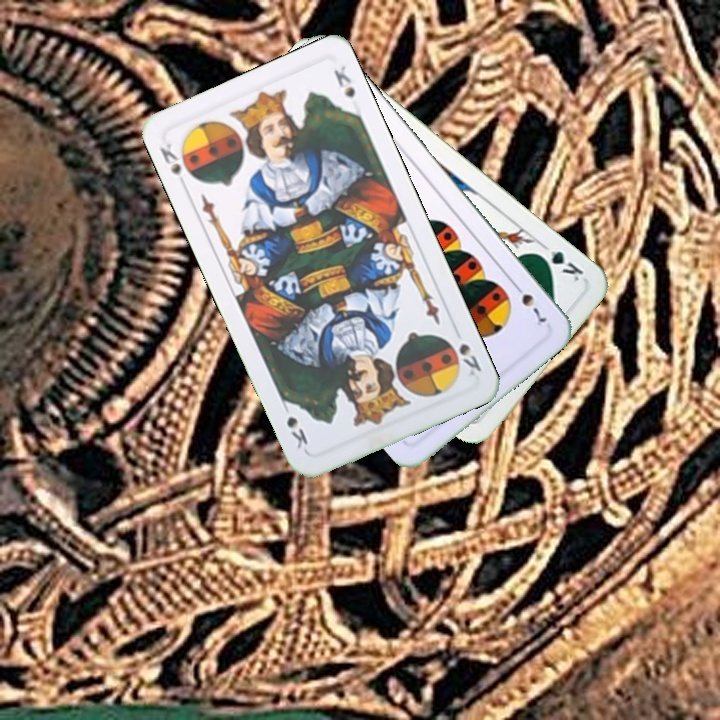GK: (532, 239, 586, 284)
S7: (508, 278, 550, 329)
SK: (155, 139, 198, 191), (454, 339, 484, 379)
